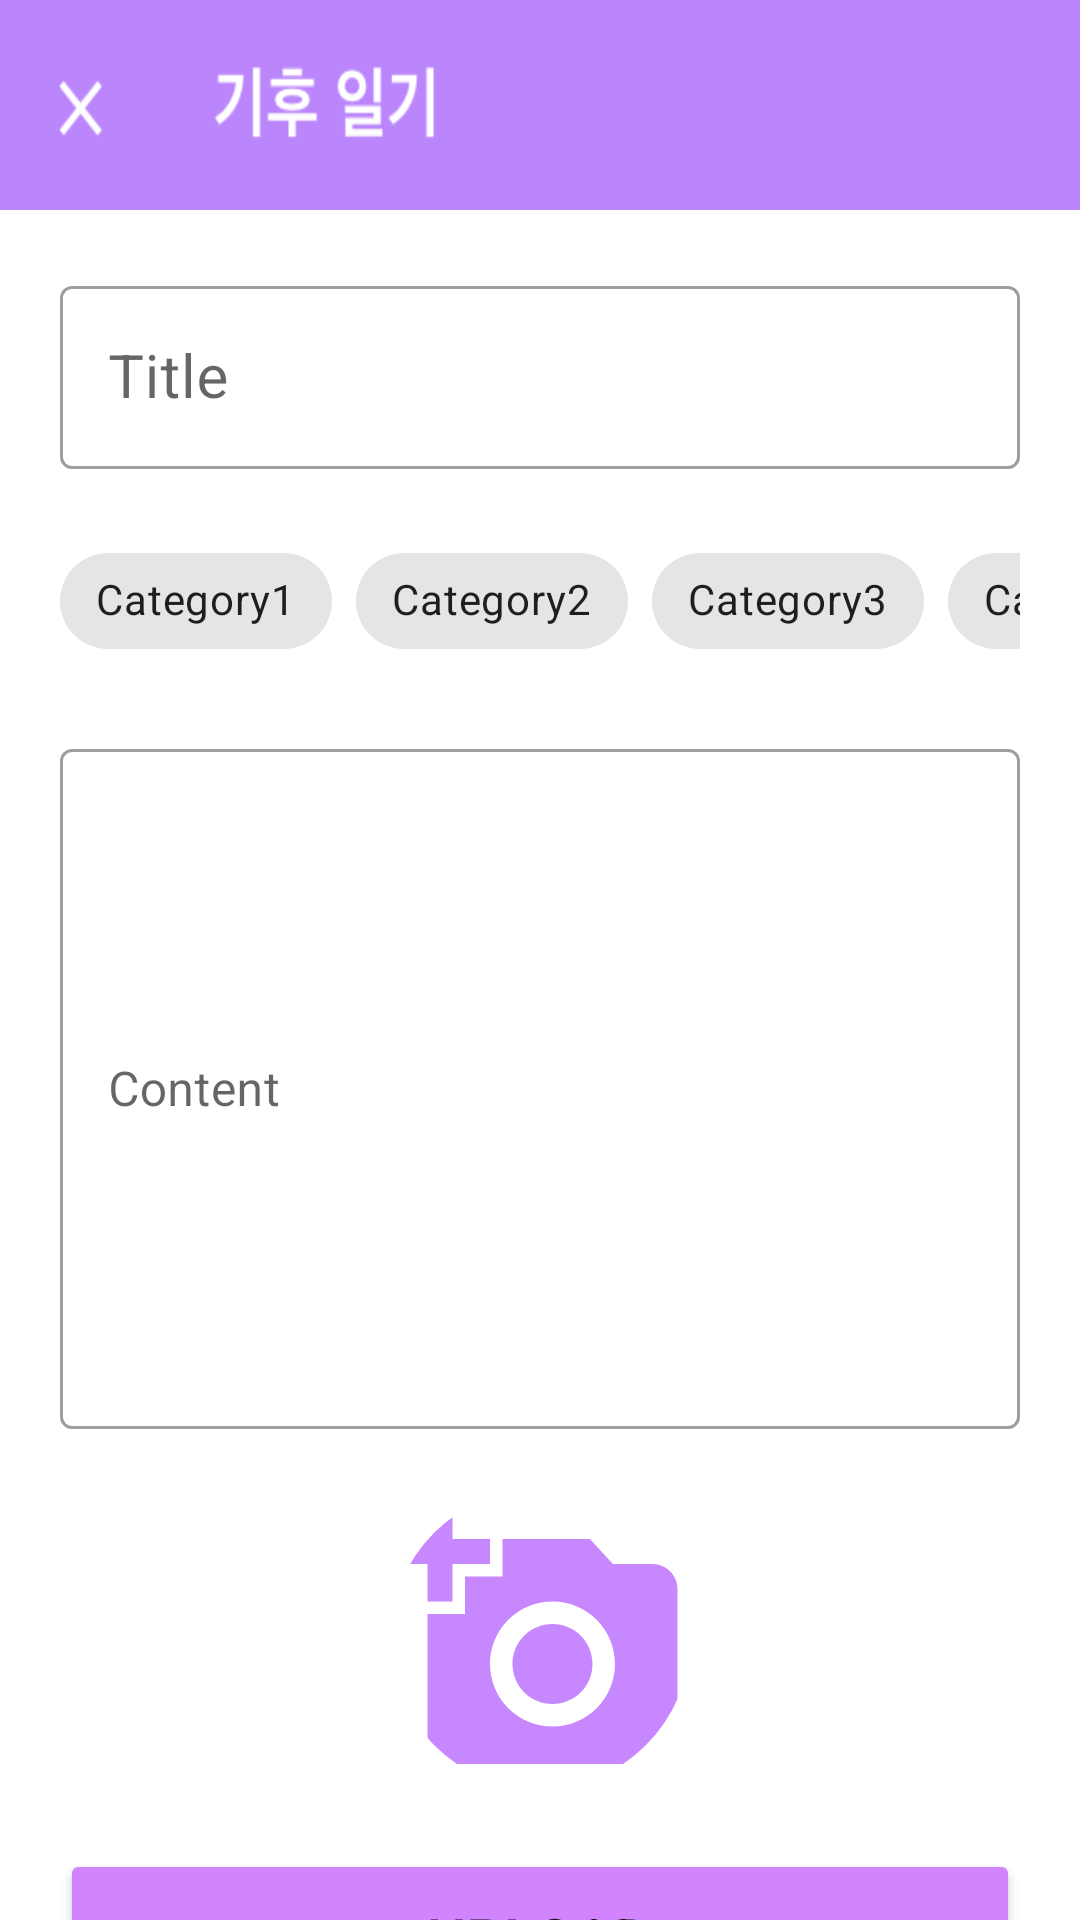

Screen size 1080w x 1920h. Icon name, then its center in pixels as (x=x, y=y):
add photo: (x=544, y=1640)
